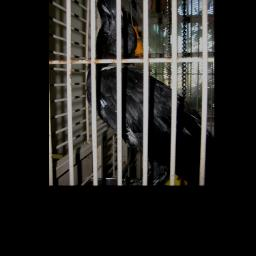Crow: (86, 0, 214, 185)
